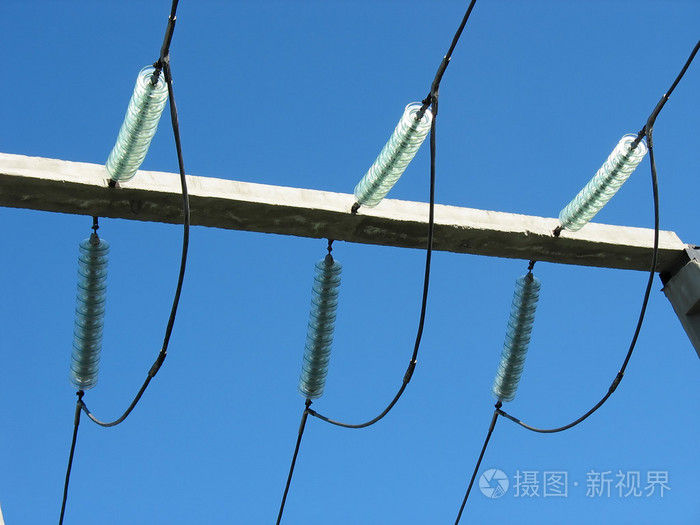insulator: (560, 131, 649, 228), (356, 103, 433, 208), (105, 64, 170, 180), (297, 257, 342, 400), (69, 235, 108, 392), (492, 275, 539, 404)
